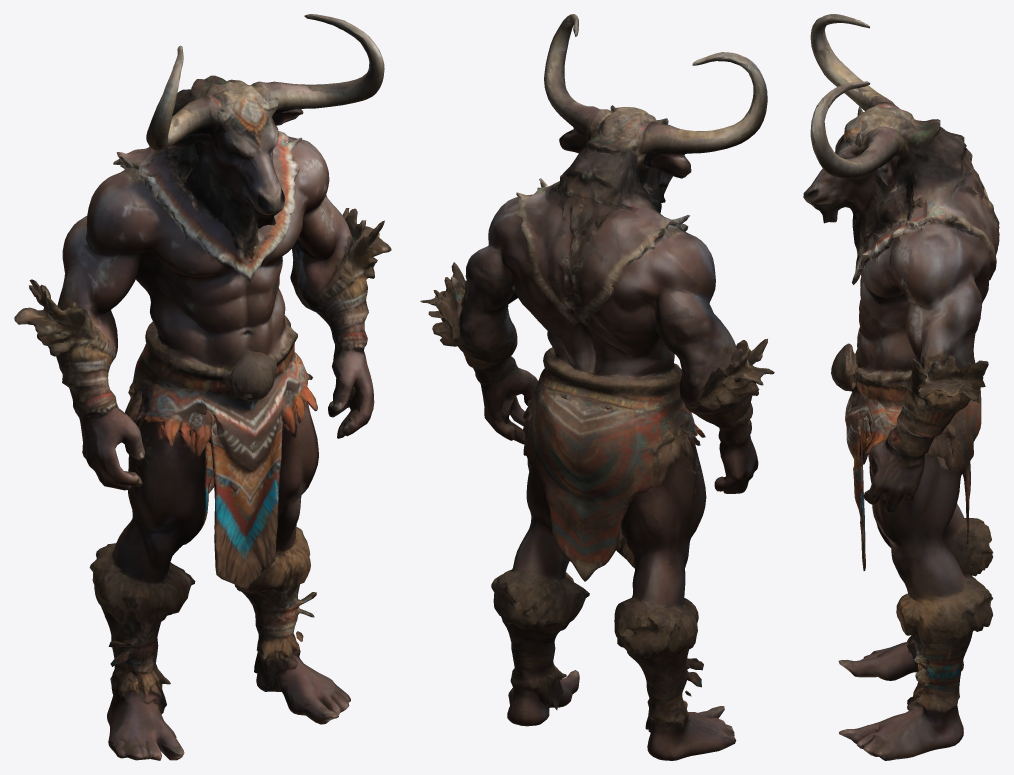
The model's file is minotaur__tribal-attire.glb.
The picture shows the model from 3 angles, left to right: view 1: azimuth 30°, elevation 25°; view 2: azimuth 150°, elevation 25°; view 3: azimuth 270°, elevation 25°; orthographic projection. The views are drawn at different scales.
Size of the model in its own units: 1.07 by 2 by 0.5386.
1 material, 1 textured.
